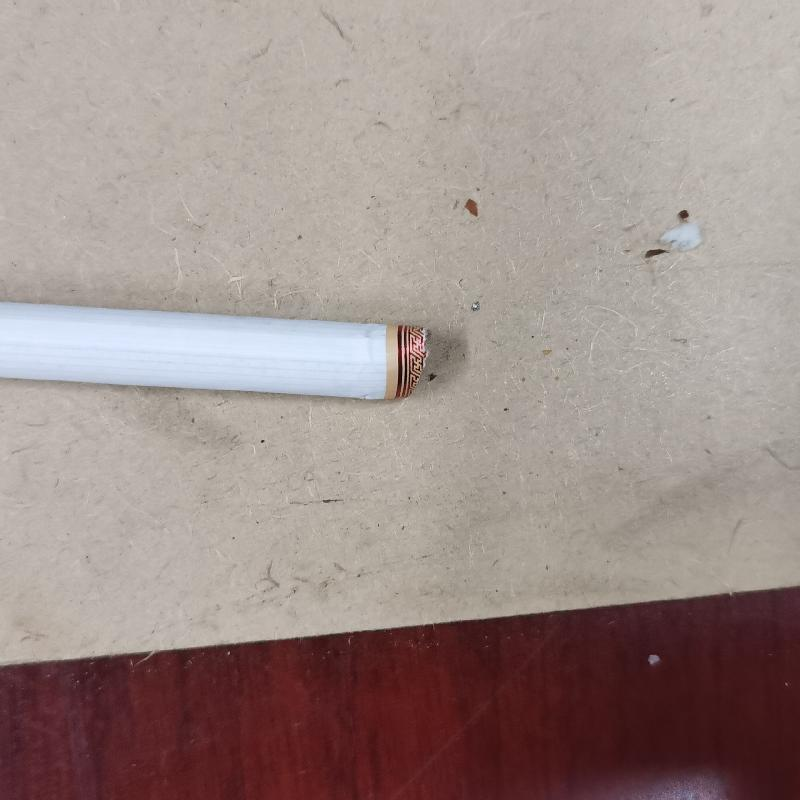cigarette: (0, 288, 429, 411)
